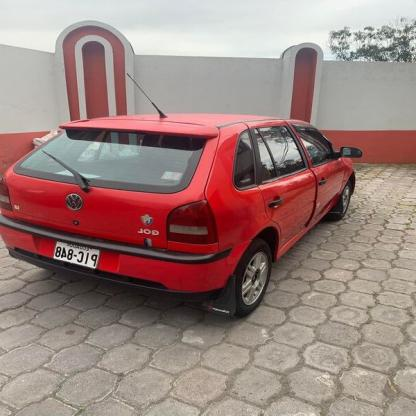Placa: (49, 237, 104, 273)
